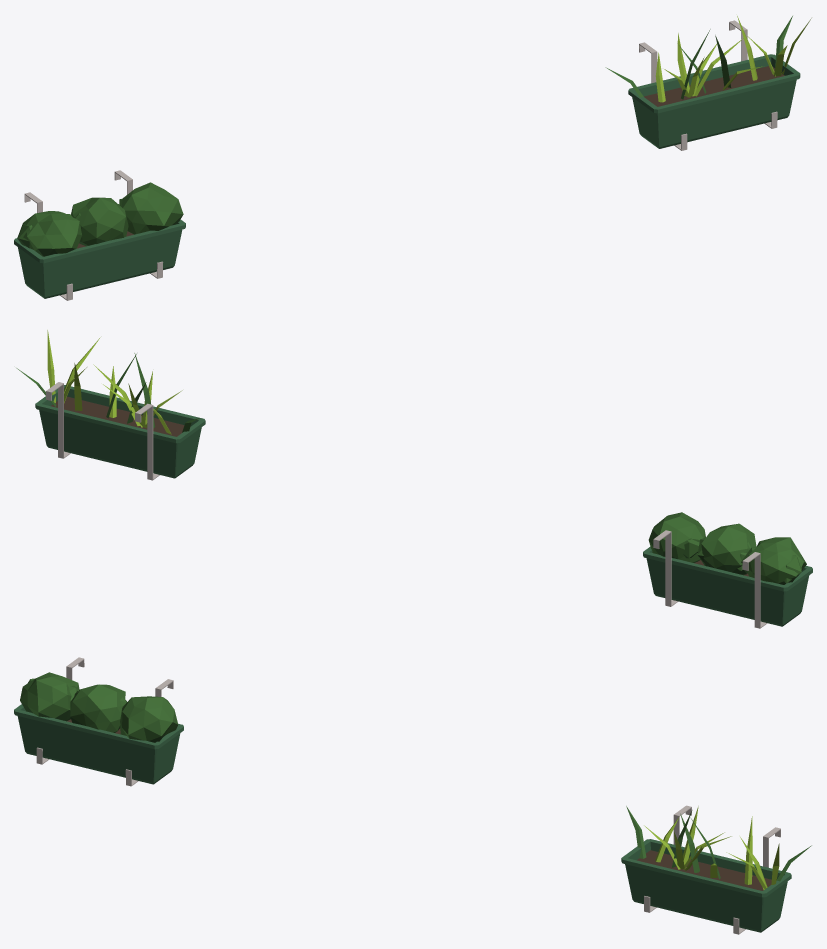
File: SM_Fixture_RailPlanterFull_Alu_546_Green_01.gltf
3 renders of one model, top to bottom at view 1: azimuth 30°, elevation 25°; view 2: azimuth 150°, elevation 25°; view 3: azimuth 330°, elevation 25°, orthographic.
Parts seen in each view (by area): view 1: SM_Fixture_RailPlanterFull_Alu_546_Green_01; view 2: SM_Fixture_RailPlanterFull_Alu_546_Green_01; view 3: SM_Fixture_RailPlanterFull_Alu_546_Green_01.
Boxes of the visible parts, x1,y1,x2,y2 form: SM_Fixture_RailPlanterFull_Alu_546_Green_01: [14, 16, 811, 300]; SM_Fixture_RailPlanterFull_Alu_546_Green_01: [16, 330, 812, 628]; SM_Fixture_RailPlanterFull_Alu_546_Green_01: [14, 657, 811, 934].
Size of the model in its own units: 3.49 by 0.4508 by 0.4203.
1 material, 1 textured.
